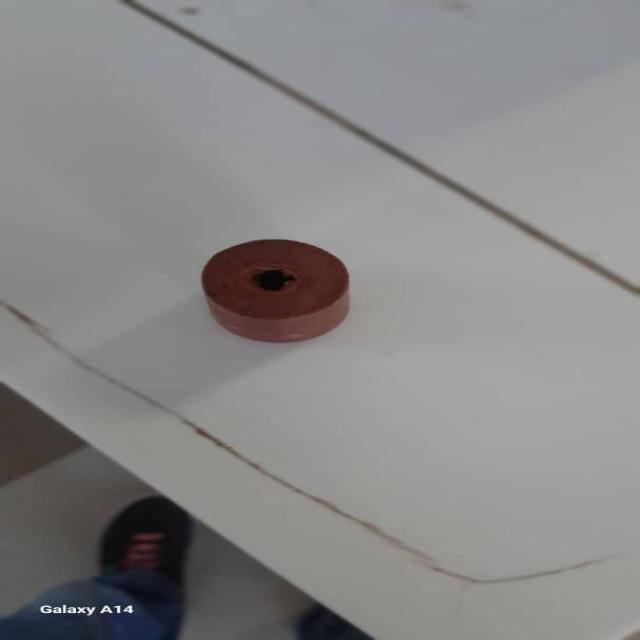Stopper: (198, 240, 365, 348)
